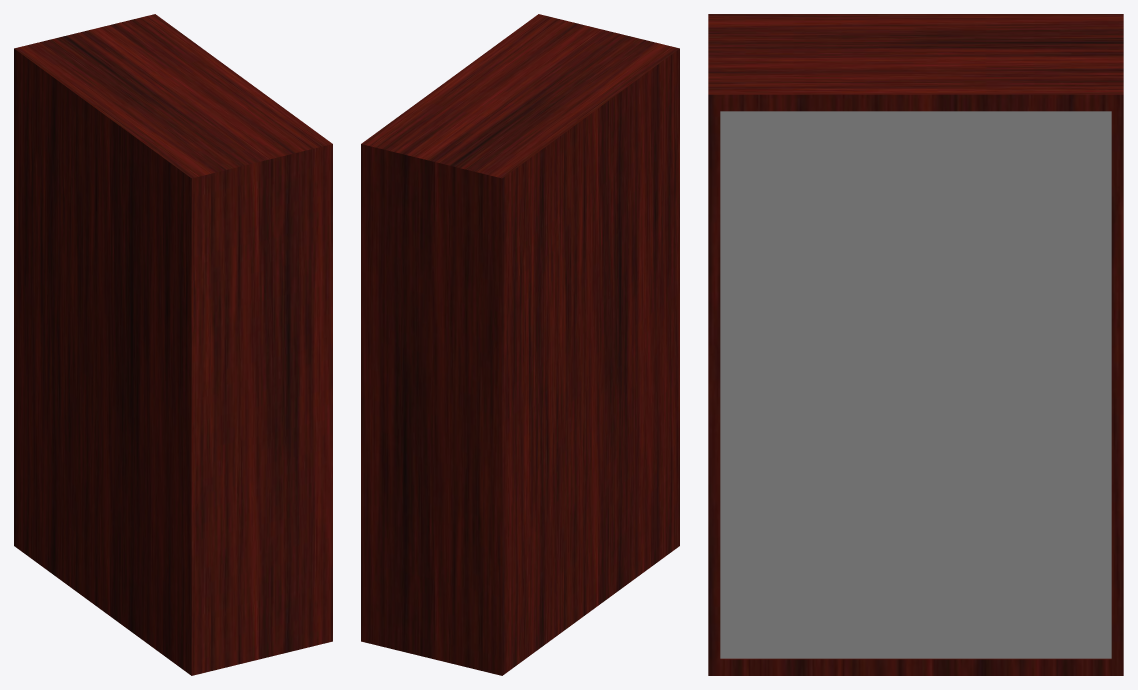
The model's file is display cabinet.fbx.
3 renders of one model, left to right at view 1: azimuth 30°, elevation 25°; view 2: azimuth 150°, elevation 25°; view 3: azimuth 270°, elevation 25°, orthographic. The views are drawn at different scales.
Visible parts, largest first — view 1: pCube2; view 2: pCube2; view 3: pCube4, pCube2.
Part boxes in pixels (box(x1,y1,x2,y2)): pCube2: box(14, 14, 332, 675); pCube2: box(361, 14, 679, 675); pCube4: box(720, 111, 1111, 658); pCube2: box(708, 14, 1123, 675).
Size of the model in its own units: 3.11 by 10.45 by 6.76.
14 materials, 13 textured.
